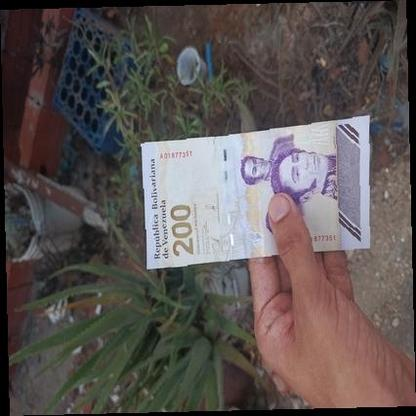two_hundred-front-vef: (140, 115, 372, 270)
